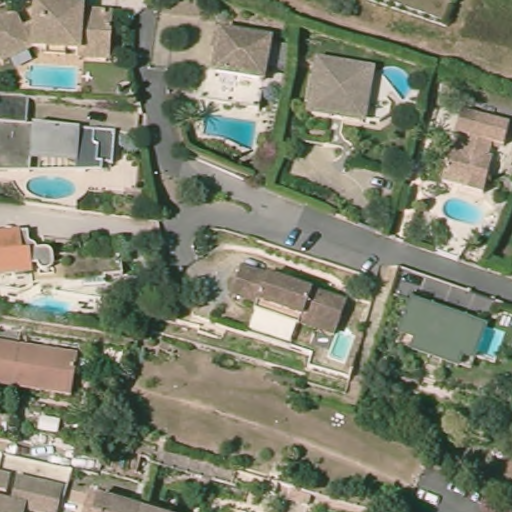pool: (194, 111, 262, 155), (22, 59, 87, 91), (435, 191, 487, 230), (374, 61, 420, 103), (23, 171, 80, 203), (23, 287, 76, 320), (322, 327, 355, 368), (476, 325, 506, 364)
